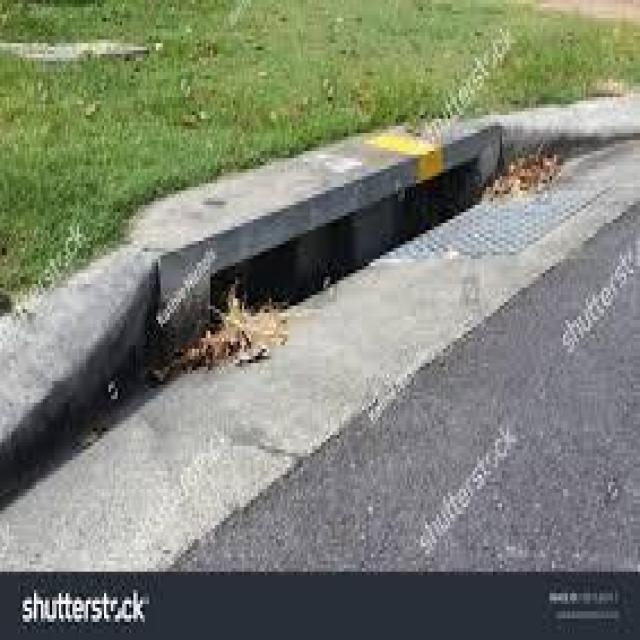curb: (145, 116, 427, 363), (1, 194, 166, 490), (379, 84, 624, 197)
